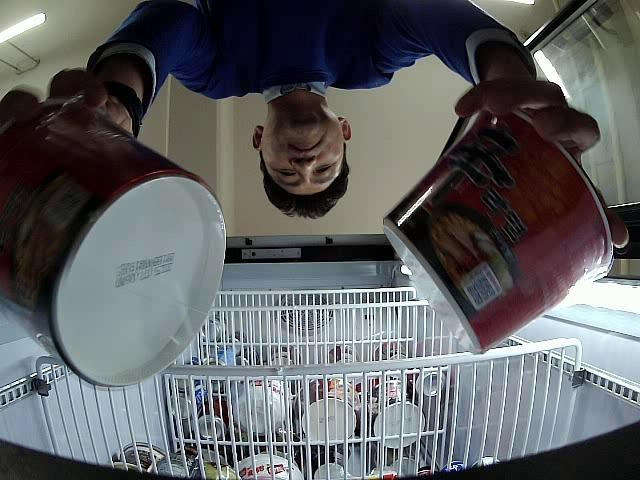01_ShinRamen_L: (1, 100, 228, 392), (384, 109, 612, 353)
